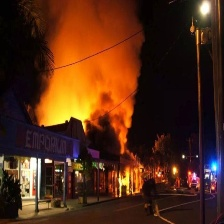fire: (118, 168, 135, 195)
smoke: (39, 1, 151, 156)
